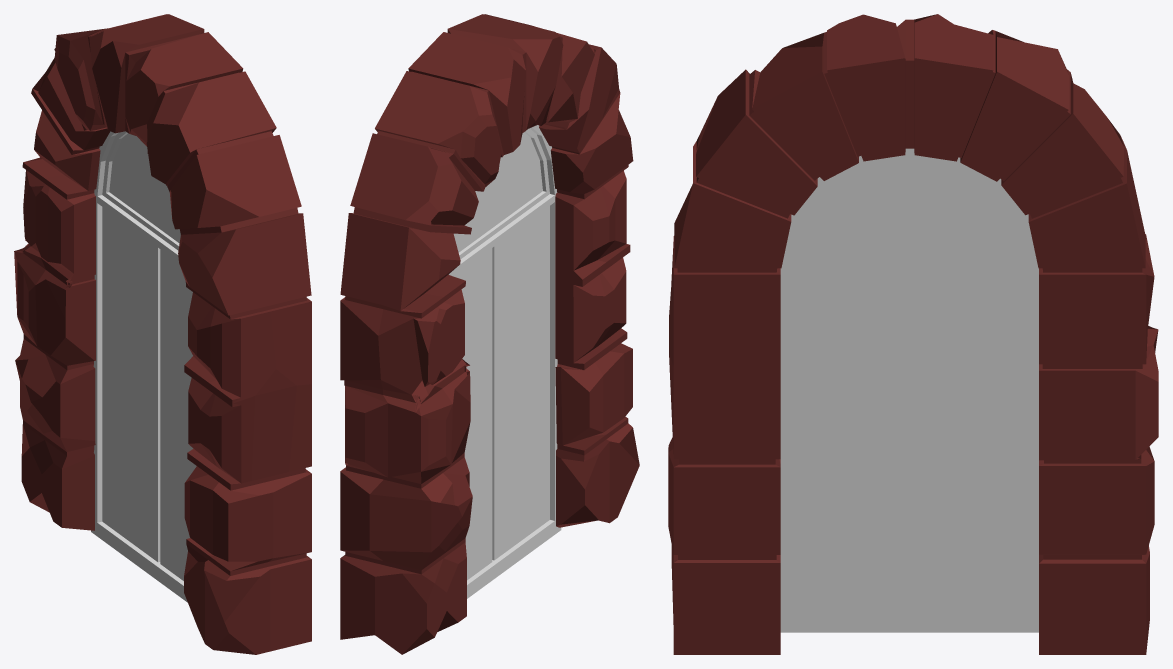
File: hell2_door.fbx
The picture shows the model from 3 angles, left to right: view 1: azimuth 30°, elevation 25°; view 2: azimuth 150°, elevation 25°; view 3: azimuth 270°, elevation 25°; orthographic projection. The views are drawn at different scales.
Parts seen in each view (by area): view 1: Cube, Circle.001; view 2: Cube, Circle.001; view 3: Cube, Circle.001.
Part boxes in pixels (<box>): Cube: <box>14,14,311,654</box>; Circle.001: <box>91,131,196,602</box>; Cube: <box>340,14,639,654</box>; Circle.001: <box>449,125,561,598</box>; Cube: <box>668,14,1158,654</box>; Circle.001: <box>780,148,1038,632</box>.
Size of the model in its own units: 234 by 1238 by 917.
